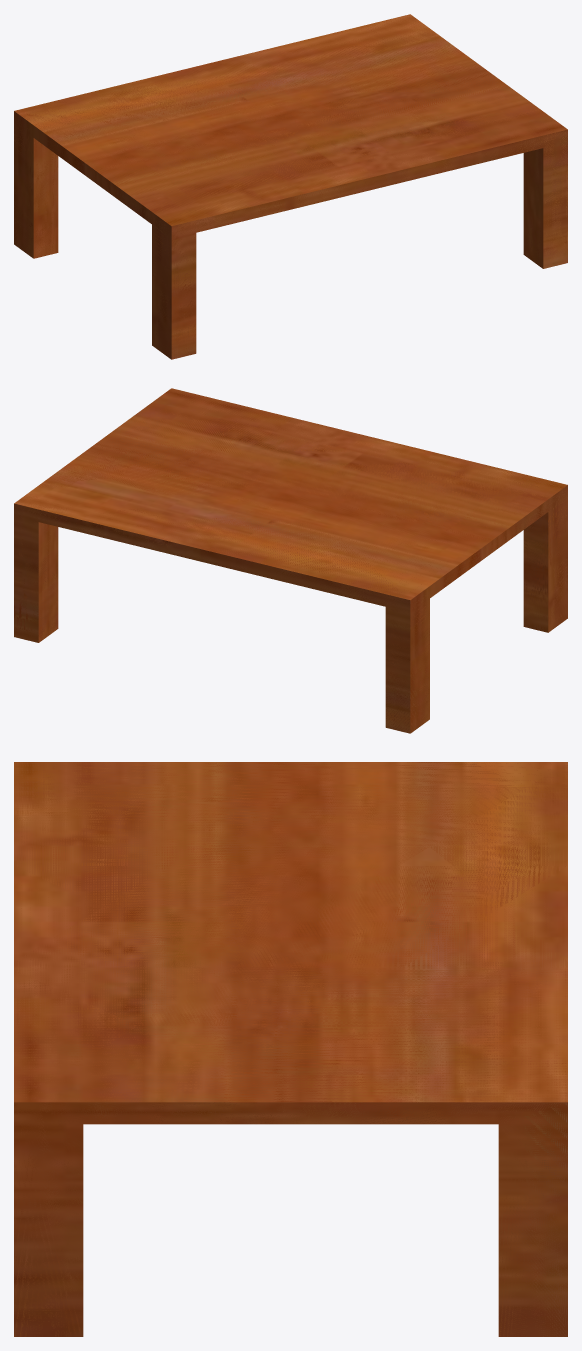
File: Table10 Wood.fbx
The picture shows the model from 3 angles, top to bottom: view 1: azimuth 30°, elevation 25°; view 2: azimuth 150°, elevation 25°; view 3: azimuth 270°, elevation 25°; orthographic projection. The views are drawn at different scales.
Visible parts, largest first — view 1: SketchUp; view 2: SketchUp; view 3: SketchUp.
Part boxes in pixels (<box>): SketchUp: <box>14,14,567,359</box>; SketchUp: <box>14,388,567,733</box>; SketchUp: <box>14,762,567,1336</box>.
Bounding box in the file's own units: 87.41 × 28.13 × 60.17.
